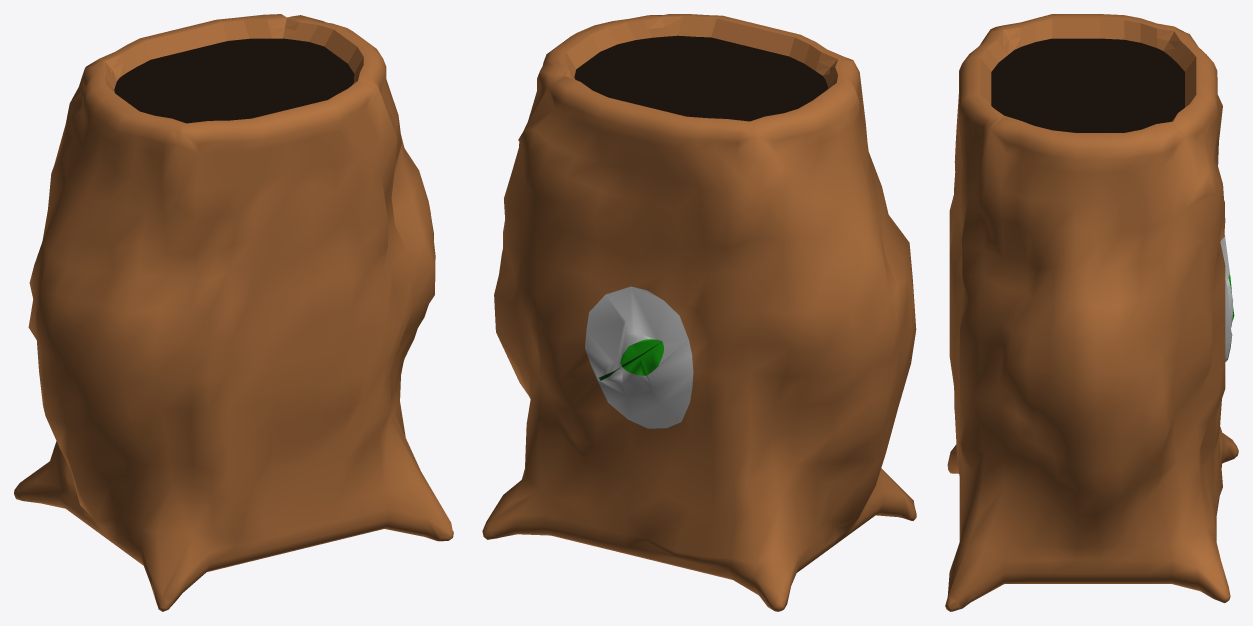
Rendered from sacoDeAbono.fbx.
3 views of the same model, side by side, from view 1: azimuth 30°, elevation 25°; view 2: azimuth 150°, elevation 25°; view 3: azimuth 270°, elevation 25° (orthographic). The views are drawn at different scales.
Visible parts, largest first — view 1: Box001; view 2: Box001; view 3: Box001.
Part boxes in pixels (x1=…): Box001: x1=14, y1=14, x2=453, y2=611; Box001: x1=482, y1=14, x2=916, y2=611; Box001: x1=945, y1=14, x2=1238, y2=611.
Size of the model in its own units: 13.74 by 15.6 by 8.91.
